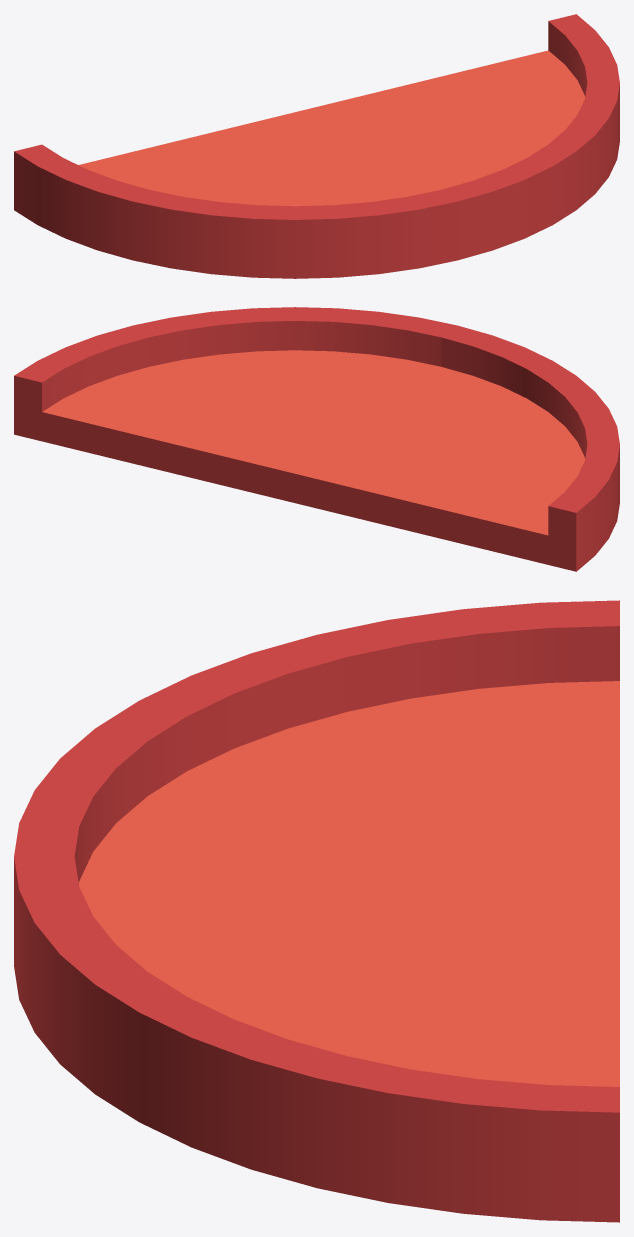
The model's file is Indicator.fbx.
3 views of the same model, one above another, from view 1: azimuth 30°, elevation 25°; view 2: azimuth 150°, elevation 25°; view 3: azimuth 270°, elevation 25° (orthographic). The views are drawn at different scales.
Visible parts, largest first — view 1: mergedBlocks; view 2: mergedBlocks; view 3: mergedBlocks.
Boxes of the visible parts, bbox=[...] form: mergedBlocks: bbox=[14, 14, 619, 278]; mergedBlocks: bbox=[14, 307, 619, 571]; mergedBlocks: bbox=[14, 600, 619, 1222].
Size of the model in its own units: 20 by 2 by 10.
